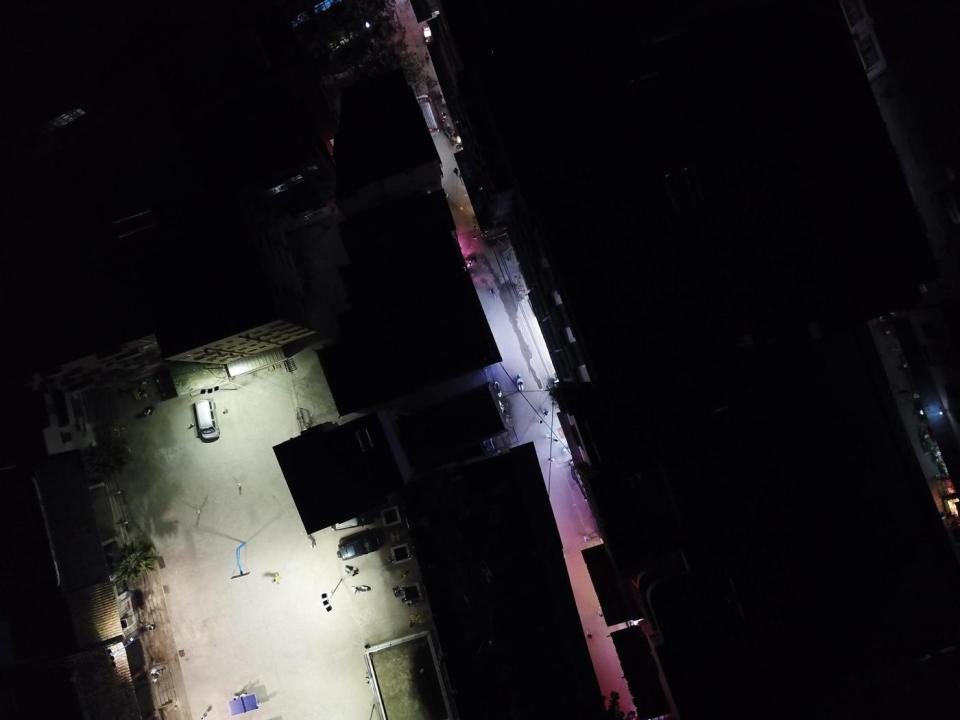car: (337, 534, 381, 560)
van: (413, 94, 439, 138), (194, 398, 220, 439), (330, 509, 368, 531)
